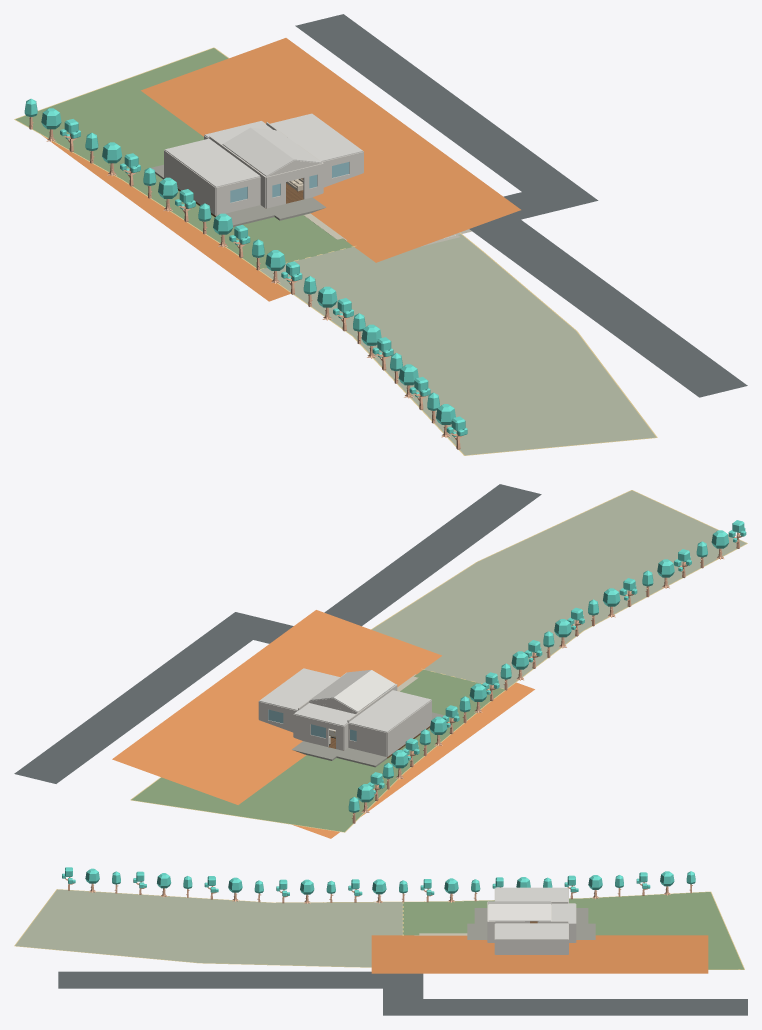
Rendered from country-site-r01.glb.
The picture shows the model from 3 angles, top to bottom: view 1: azimuth 30°, elevation 25°; view 2: azimuth 150°, elevation 25°; view 3: azimuth 270°, elevation 25°; orthographic projection. The views are drawn at different scales.
Visible parts, largest first — view 1: HS_partner_portion, HS_slope_grid, HS_road_5m, HS_our_portion, ceiling-left, ceiling-right, family-dining/vault-left, ext-left/end, family-dining/vault-right, ground/slab/4; view 2: HS_partner_portion, HS_slope_grid, HS_road_5m, HS_our_portion, ceiling-left, ceiling-right, family-dining/vault-left, ext-left/end, ext-left-rear/pier-0, ceiling-kitchen, family-dining/vault-right; view 3: HS_partner_portion, HS_road_5m, HS_slope_grid, HS_our_portion, ceiling-right, ext-right/end, family-dining/vault-right, ceiling-left, ceiling-kitchen, ground/slab/4, ground/slab/7.
Part boxes in pixels (x1,y1,x2,y2): HS_partner_portion: (260, 234, 656, 455); HS_slope_grid: (42, 38, 520, 301); HS_road_5m: (295, 14, 747, 397); HS_our_portion: (15, 48, 352, 268); ceiling-left: (165, 138, 260, 187); ceiling-right: (270, 113, 363, 161); family-dining/vault-left: (222, 127, 293, 176); ext-left/end: (164, 150, 215, 215); family-dining/vault-right: (251, 127, 321, 163); ground/slab/4: (266, 197, 325, 220); HS_partner_portion: (372, 490, 746, 688); HS_slope_grid: (112, 610, 534, 838); HS_road_5m: (14, 484, 541, 783); HS_our_portion: (131, 669, 504, 832); ceiling-left: (348, 690, 431, 732); ceiling-right: (259, 668, 339, 710); family-dining/vault-left: (334, 670, 395, 712); ext-left/end: (387, 700, 431, 756); ext-left-rear/pier-0: (356, 725, 386, 756); ceiling-kitchen: (294, 703, 355, 726); family-dining/vault-right: (309, 670, 370, 700); HS_partner_portion: (15, 889, 402, 967); HS_road_5m: (58, 971, 747, 1015); HS_slope_grid: (371, 935, 708, 973); HS_our_portion: (403, 892, 744, 969); ceiling-right: (495, 923, 568, 939); ext-right/end: (495, 939, 568, 954); family-dining/vault-right: (488, 904, 550, 921); ceiling-left: (495, 887, 568, 901); ceiling-kitchen: (551, 903, 575, 923); ground/slab/4: (467, 923, 487, 939); ground/slab/7: (576, 923, 595, 939).
Bounding box in the file's own units: 38.02 × 5.54 × 91.52.
84 materials, 2 textured.
